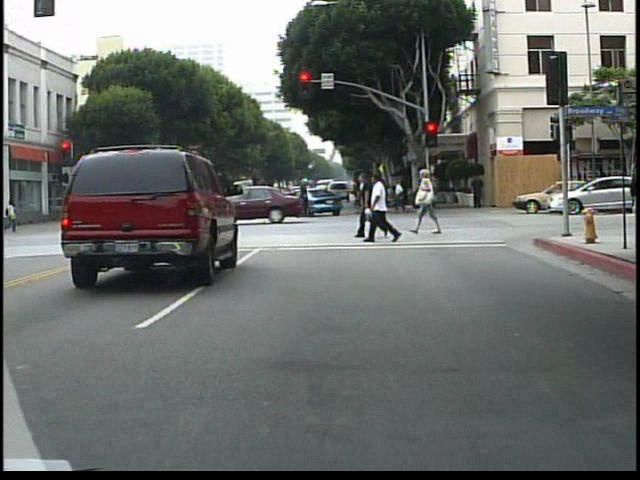person: (370, 172, 401, 246), (415, 171, 445, 241), (354, 171, 379, 241), (296, 175, 314, 219), (146, 186, 163, 232), (470, 168, 489, 208), (392, 175, 409, 215), (126, 189, 142, 231), (352, 179, 369, 215), (5, 197, 21, 232), (2, 200, 17, 236), (360, 173, 368, 220)
